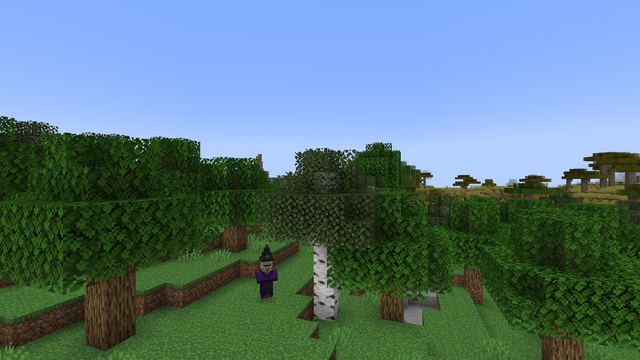sorcieres: (257, 255, 274, 302)
